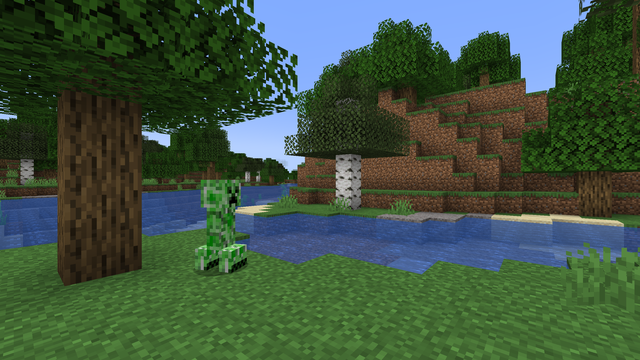creepers: (198, 175, 244, 274)
